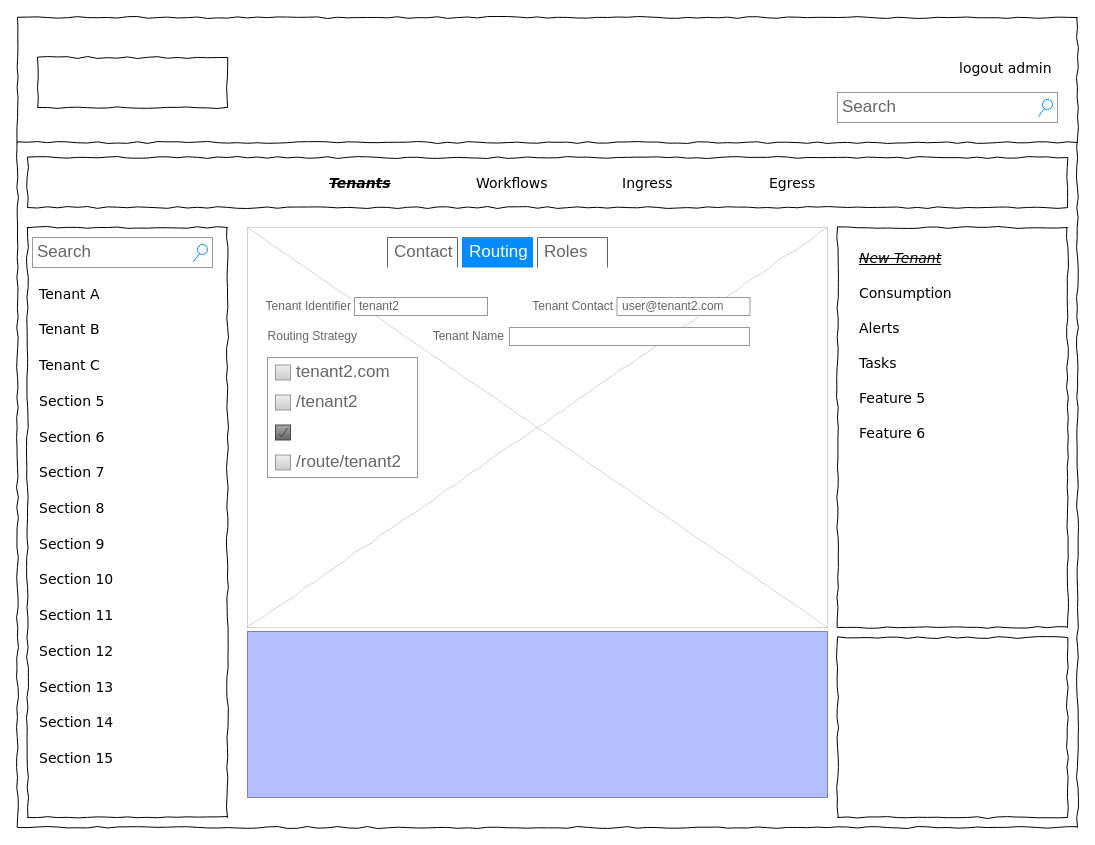
The diagram is 1095 pixels wide and 845 high, and some of its shapes have lost their labels. The box of each missing label's shape, as (x1, y1, x2, y2) in pixels:
/route: (274, 424, 290, 440)
External Links: (836, 636, 1068, 818)
horseless: (36, 56, 228, 108)
the second tenant: (508, 326, 750, 346)
time log message row 1, cell 1 row 1, cell 2 row 2, cell 1 row 2, cell 2: (246, 630, 828, 798)
